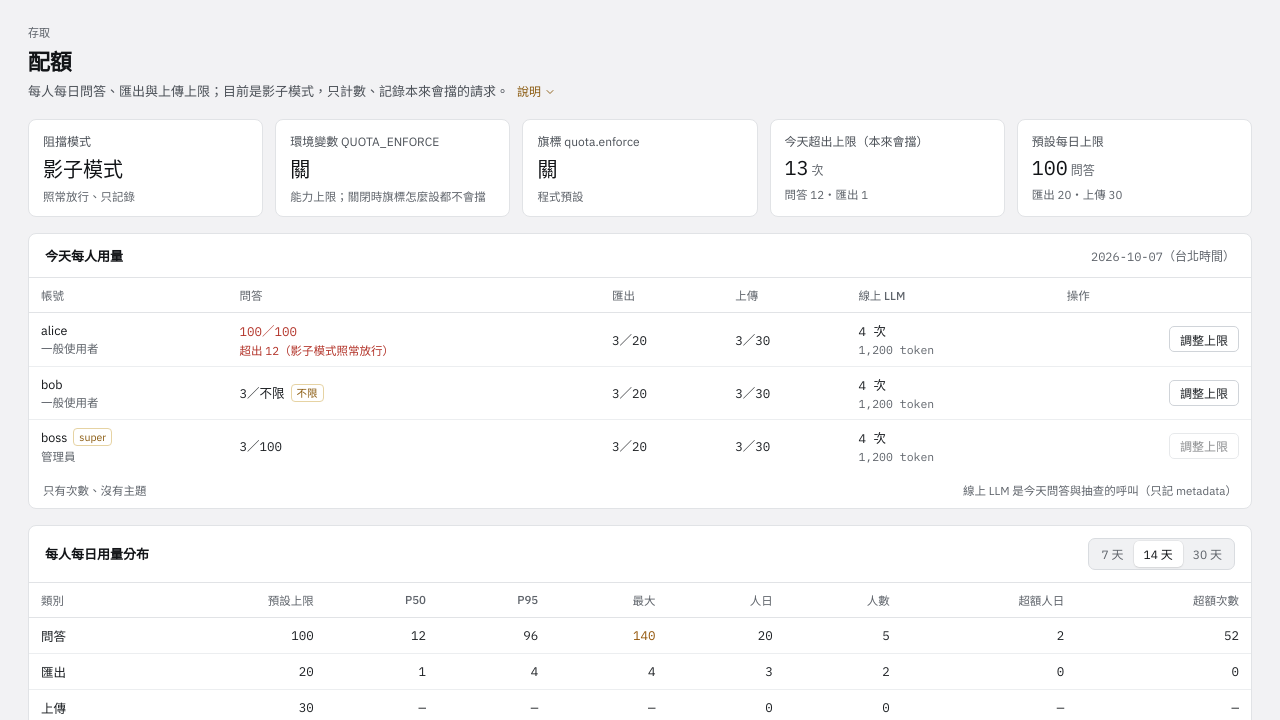
Test case: 還沒重新驗證：先問身分才送；取消就什麼都不送，表單留著、不算錯誤
The width and height of the screenshot is (1280, 720).
Click the button "調整上限" in the row of "alice" at (1204, 339), box x1=1169 y1=326 x2=1239 y2=352
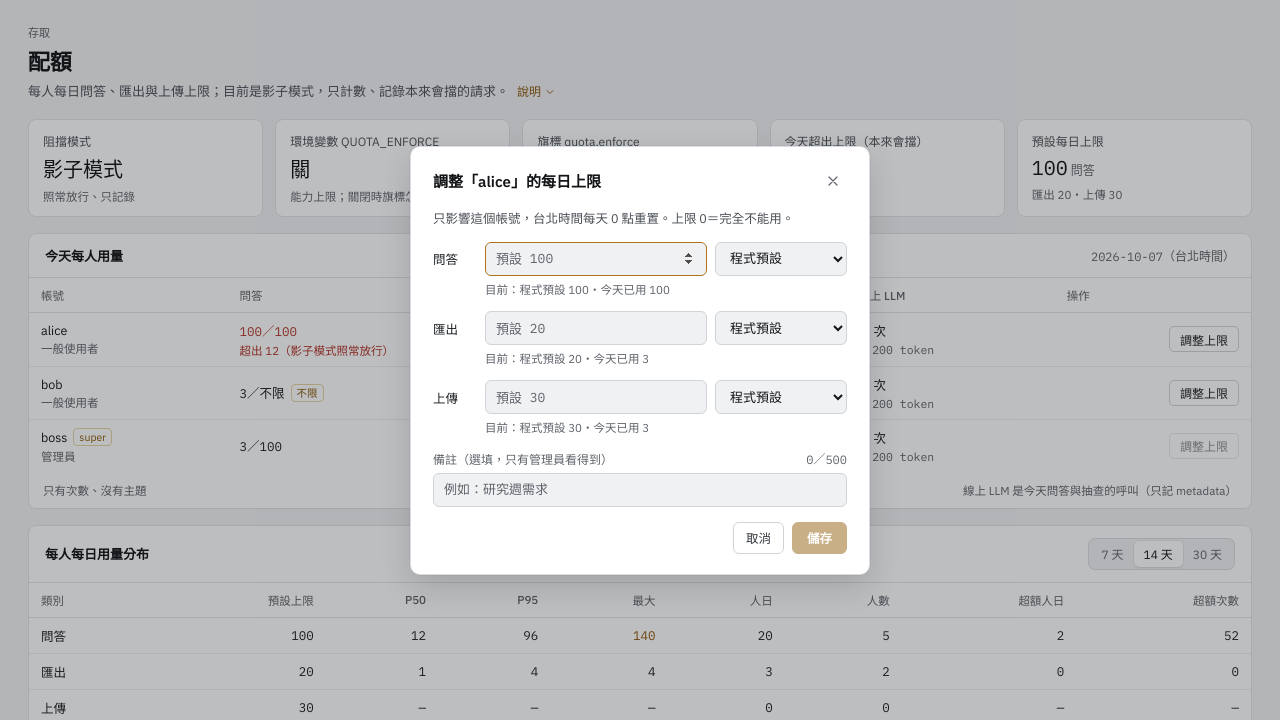
Type "200" into the number field named "問答每日上限" at (596, 259), box x1=485 y1=242 x2=707 y2=276
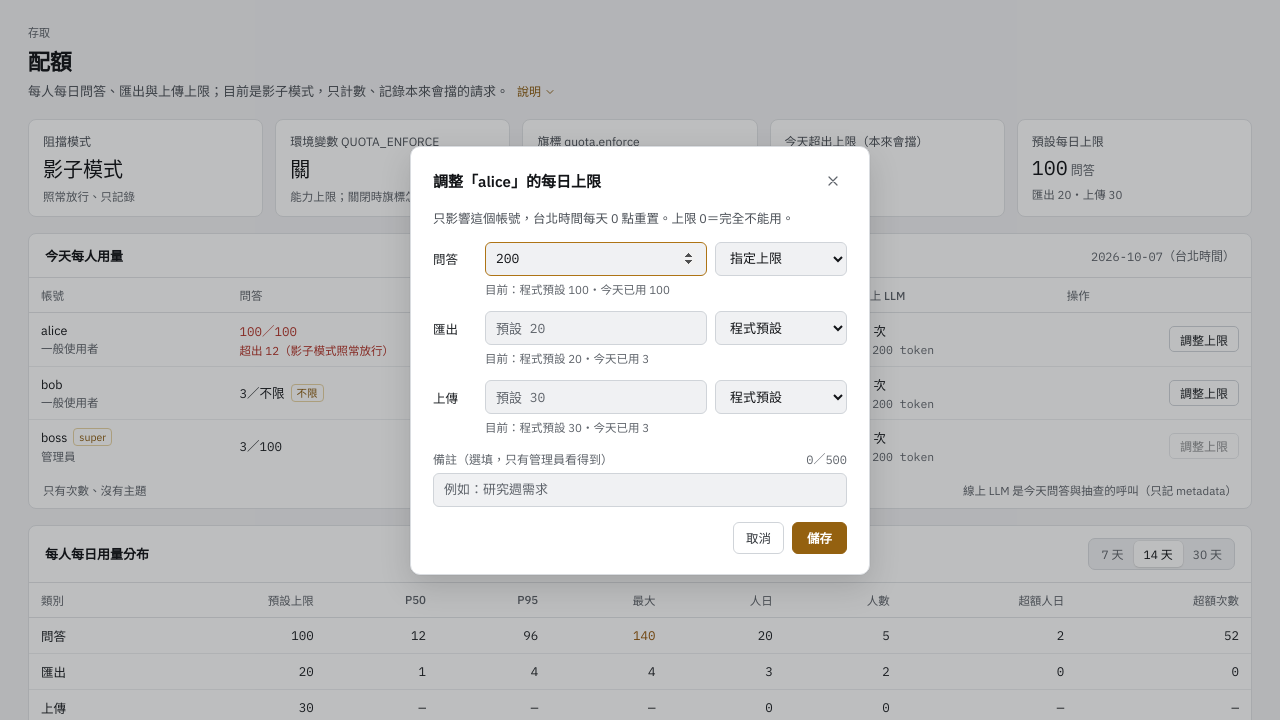
Click the button "儲存" at (820, 538), box x1=792 y1=522 x2=847 y2=554
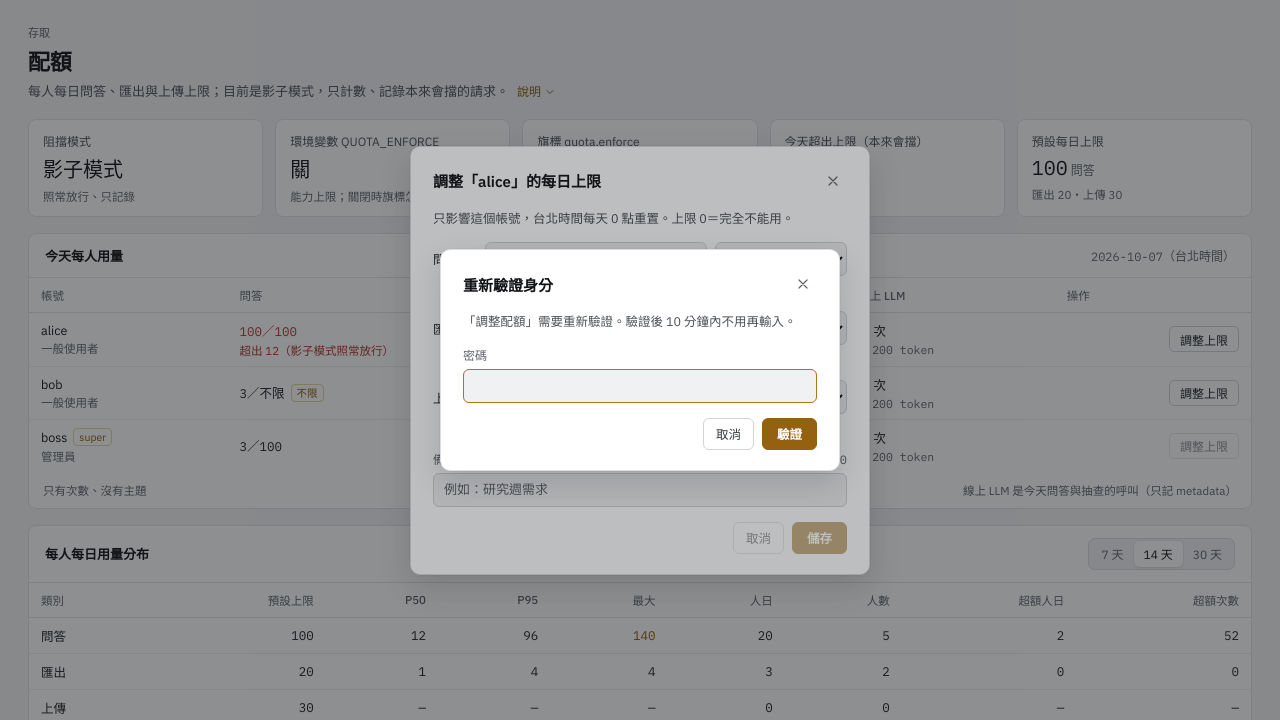
Click the button "取消" at (728, 434), box x1=703 y1=418 x2=754 y2=450
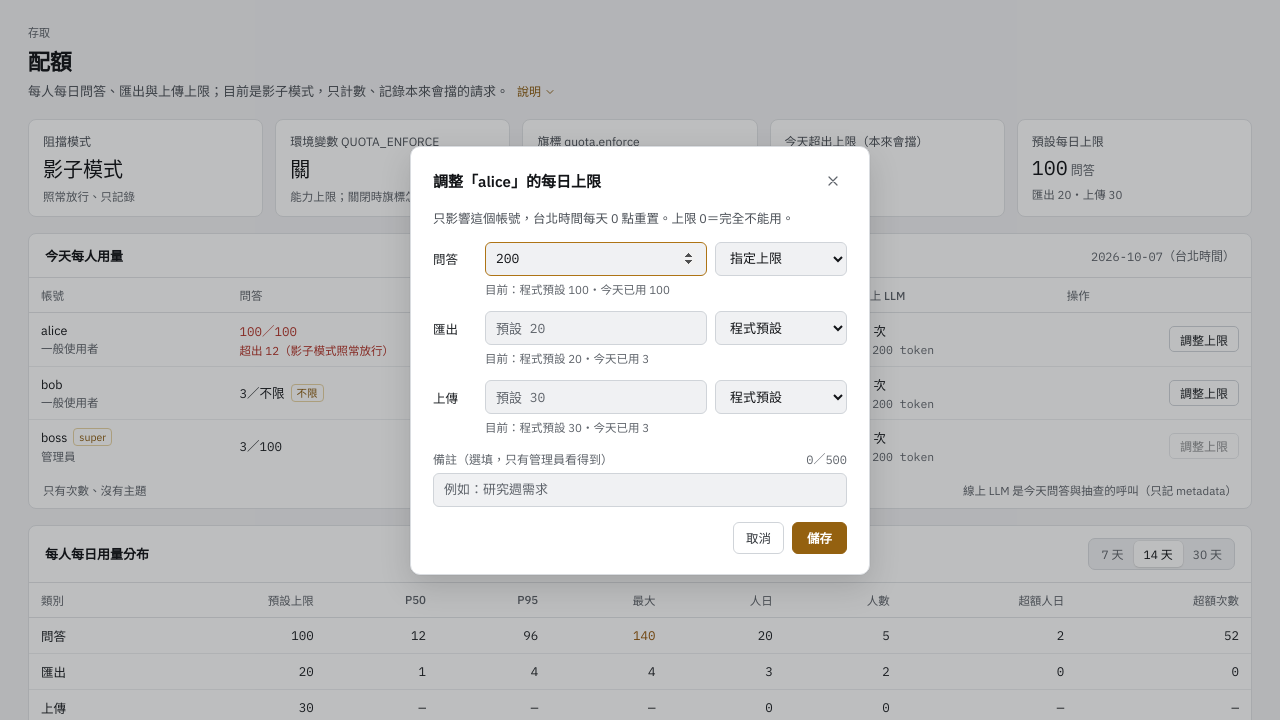
Result: the dialog "調整「alice」的每日上限" is shown at x1=410 y1=146 x2=870 y2=574
Result: the heading "重新驗證身分" is gone
